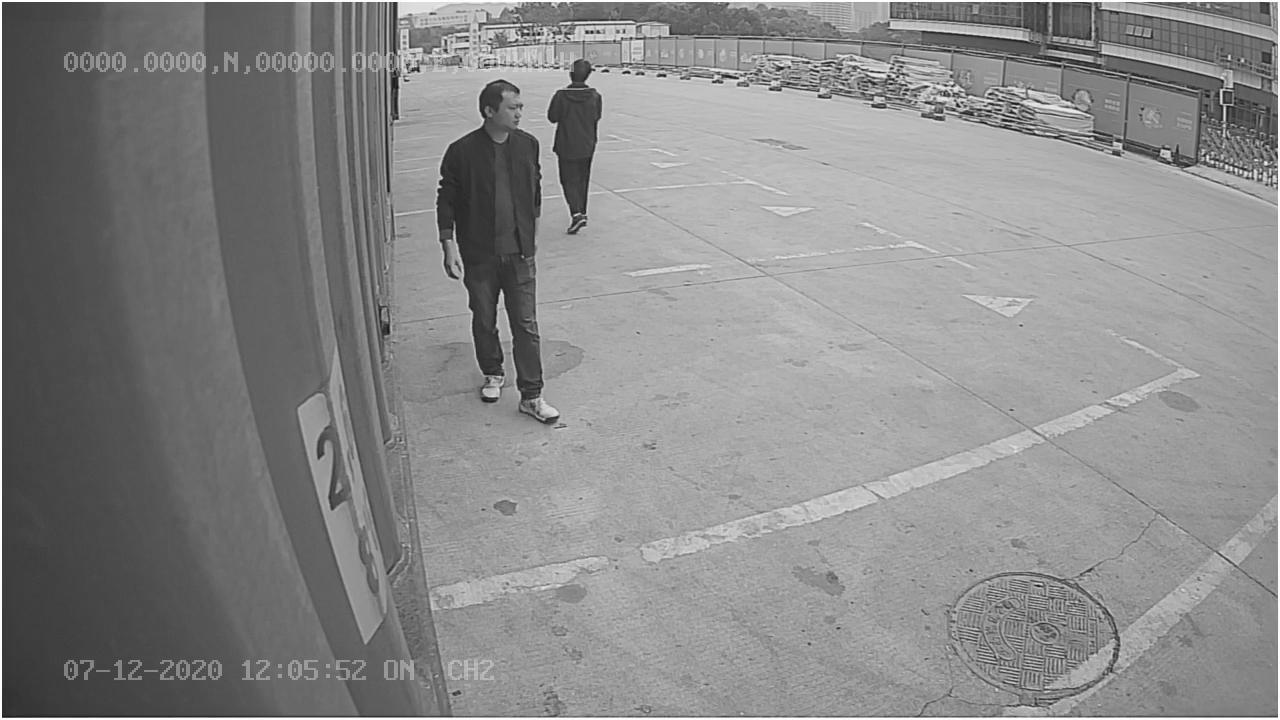person: (435, 77, 554, 423)
